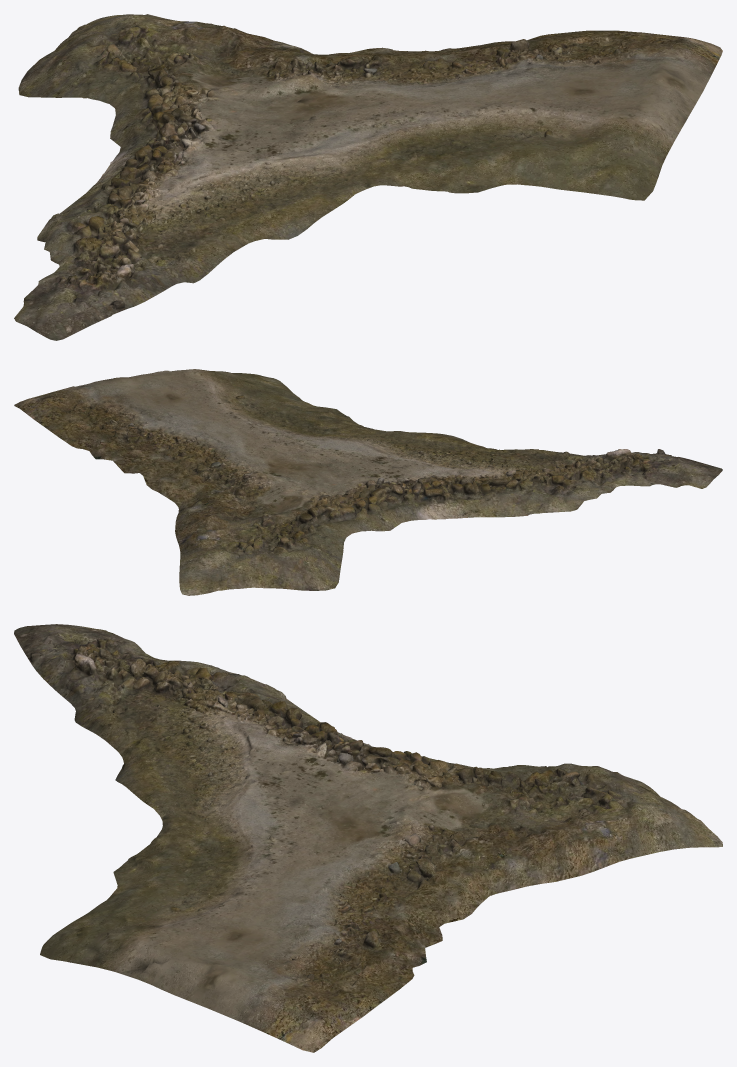
The model's file is coast_rocks_01.glb.
The picture shows the model from 3 angles, top to bottom: view 1: azimuth 30°, elevation 25°; view 2: azimuth 150°, elevation 25°; view 3: azimuth 270°, elevation 25°; orthographic projection. The views are drawn at different scales.
Visible parts, largest first — view 1: coast_rocks_01; view 2: coast_rocks_01; view 3: coast_rocks_01.
Boxes of the visible parts, x1,y1,x2,y2 form: coast_rocks_01: (14,14,722,340); coast_rocks_01: (14,369,722,595); coast_rocks_01: (14,624,722,1052).
Size of the model in its own units: 59.51 by 3.28 by 42.51.
Materials: 1 (1 with a texture image).
